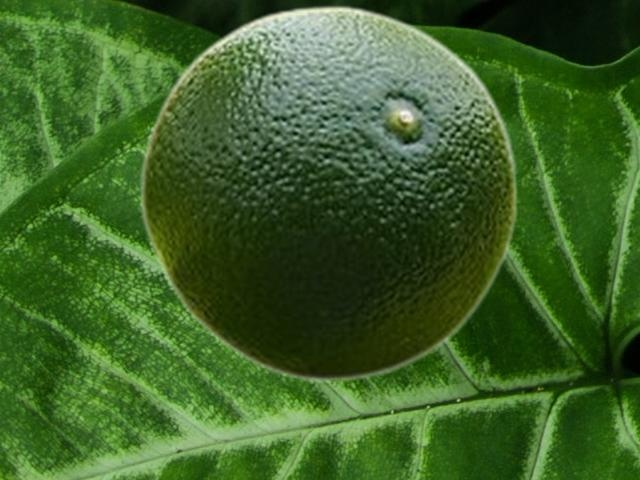calamansi: (138, 4, 518, 381)
